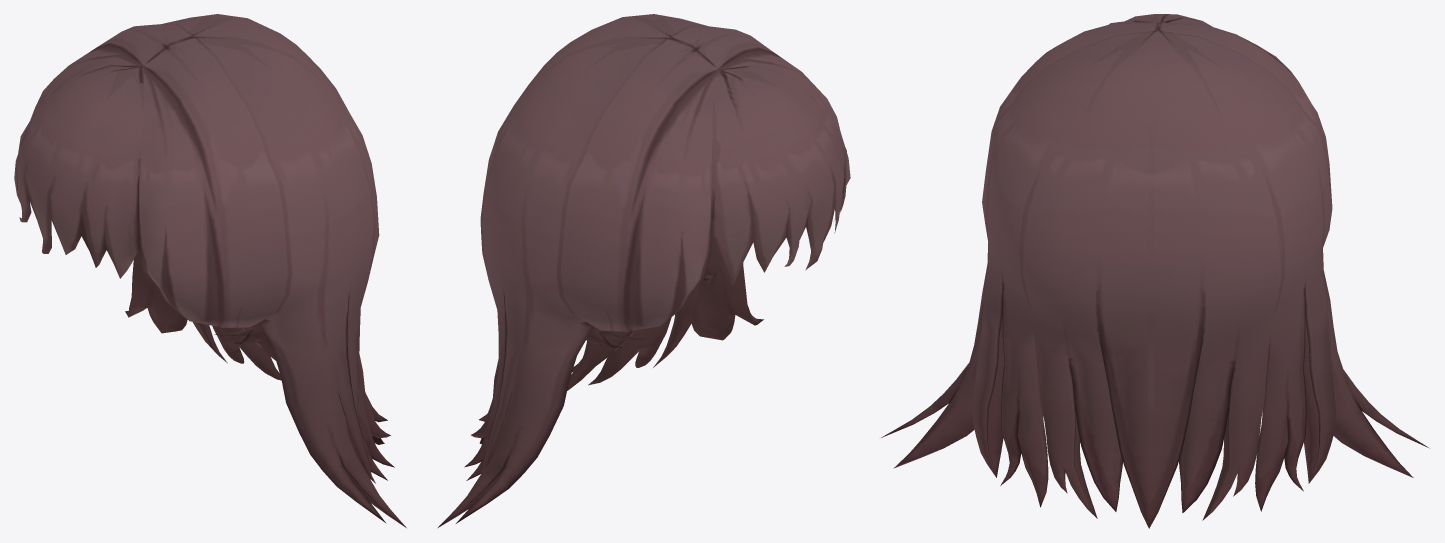
Rendered from hair_long_auburn.gltf.
3 renders of one model, left to right at view 1: azimuth 30°, elevation 25°; view 2: azimuth 150°, elevation 25°; view 3: azimuth 270°, elevation 25°, orthographic. The views are drawn at different scales.
Parts seen in each view (by area): view 1: Milady_hair; view 2: Milady_hair; view 3: Milady_hair.
Boxes of the visible parts, box(x1,y1,x2,y2) form: Milady_hair: box(14, 14, 406, 527); Milady_hair: box(437, 14, 850, 528); Milady_hair: box(881, 14, 1429, 528).
Size of the model in its own units: 0.6756 by 0.8158 by 0.9877.
1 material, 1 textured.
